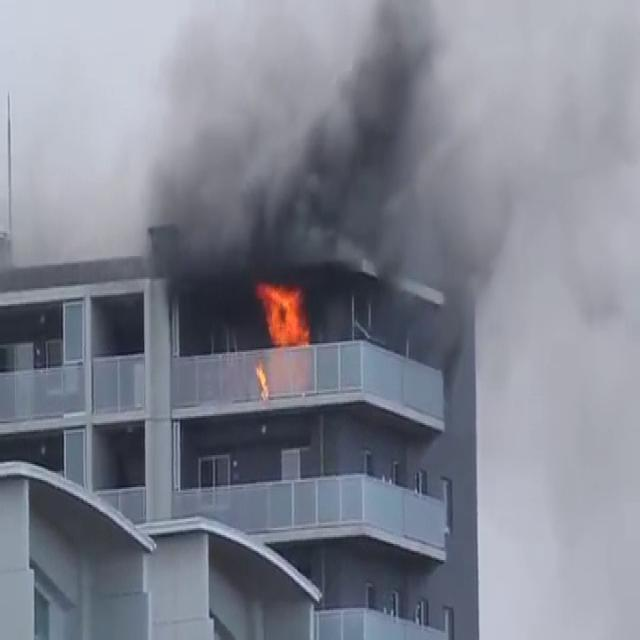Fire: (250, 273, 314, 351)
Smoke: (107, 0, 639, 372)
